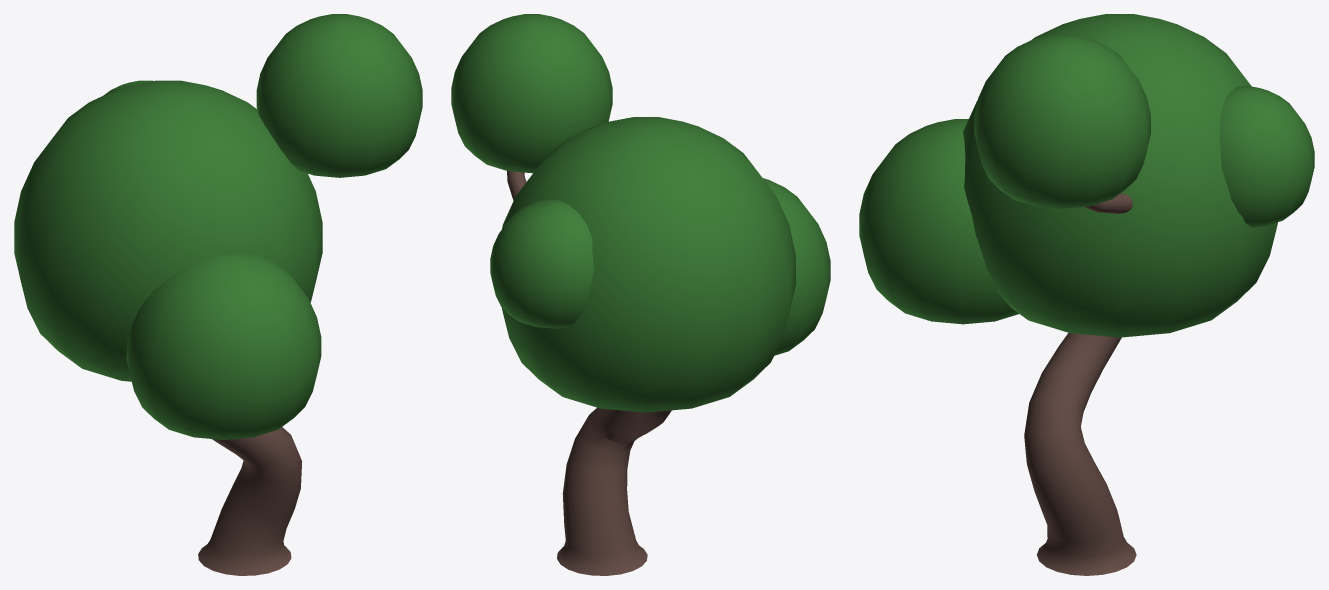
File: TreeA.fbx
3 renders of one model, left to right at view 1: azimuth 30°, elevation 25°; view 2: azimuth 150°, elevation 25°; view 3: azimuth 270°, elevation 25°, orthographic. The views are drawn at different scales.
Visible parts, largest first — view 1: Tree; view 2: Tree; view 3: Tree.
Boxes of the visible parts, <box> form: Tree: <box>14,14,422,575</box>; Tree: <box>451,14,830,575</box>; Tree: <box>859,14,1314,575</box>.
Bounding box in the file's own units: 30.55 × 43.83 × 32.56.
